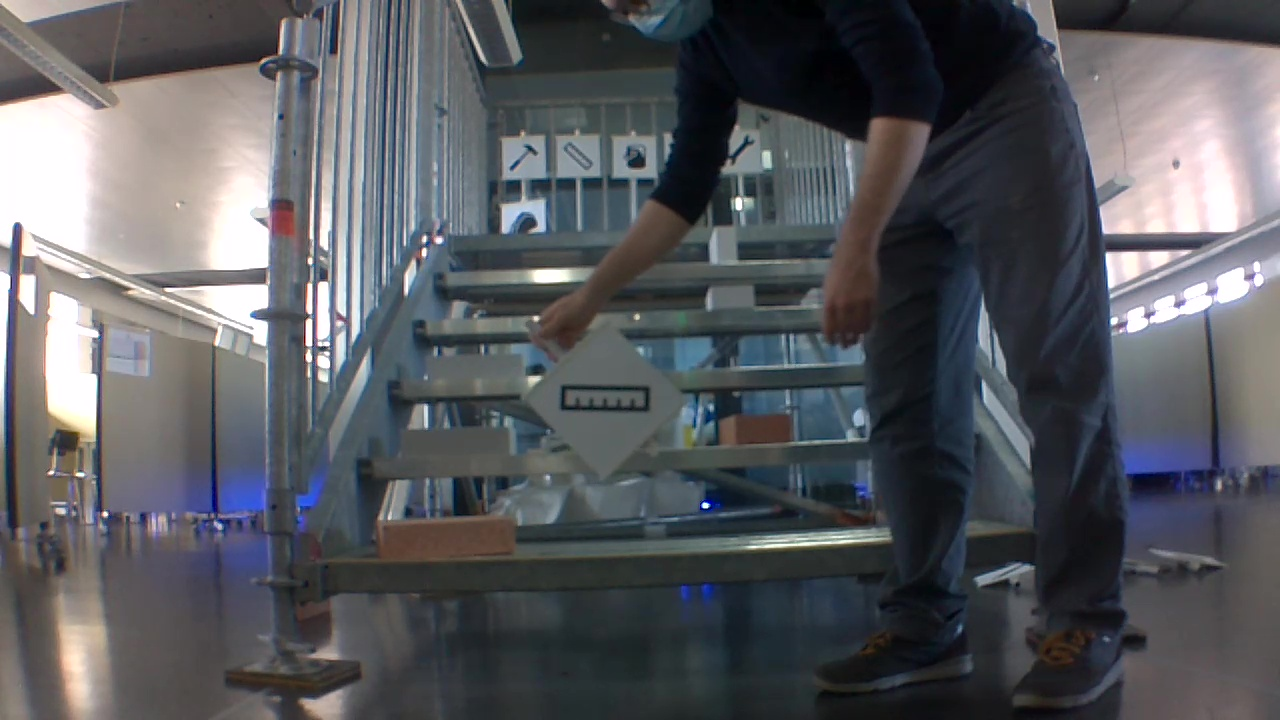brick: (377, 512, 514, 560), (403, 427, 512, 457), (726, 417, 795, 446), (708, 285, 759, 314), (711, 227, 737, 264)
bucket: (620, 139, 652, 171)
hammer: (505, 143, 540, 173)
ruler: (555, 371, 658, 421), (561, 140, 595, 174)
taco: (507, 207, 540, 239)
wrench: (727, 134, 755, 165)
